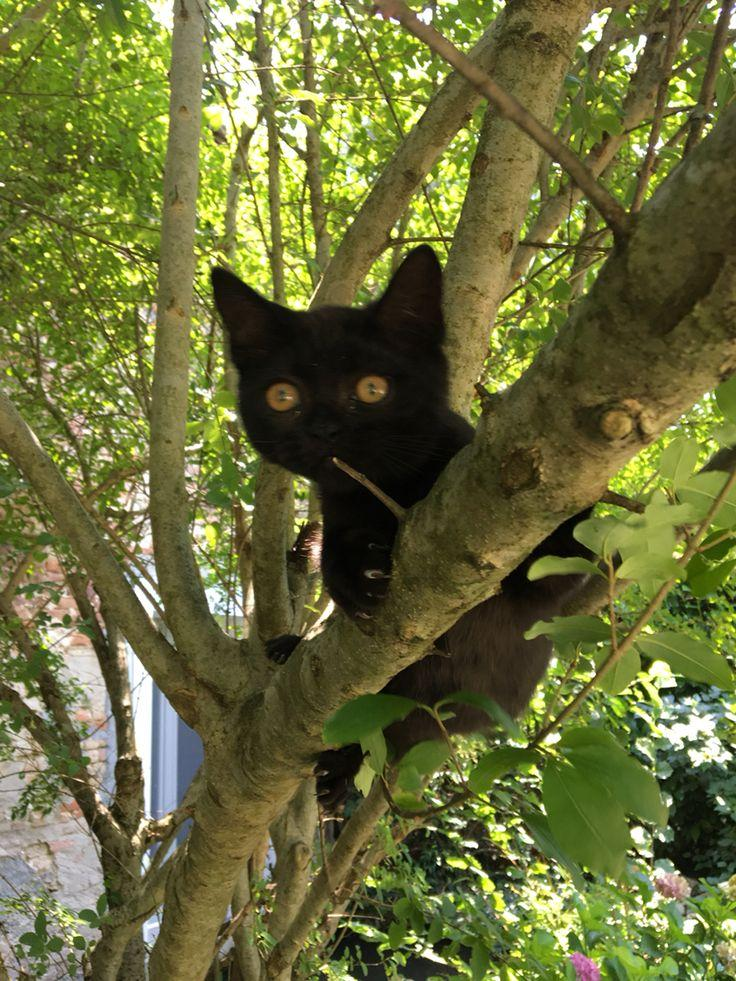kedo: (212, 245, 620, 803)
